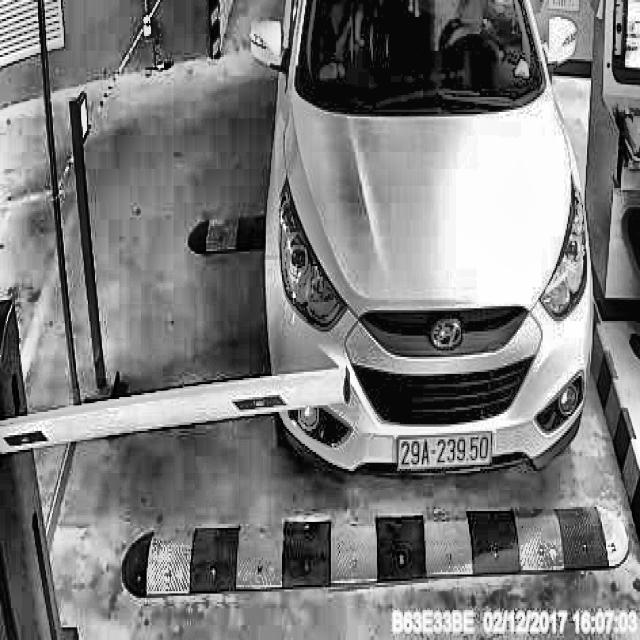plate: (392, 425, 495, 476)
